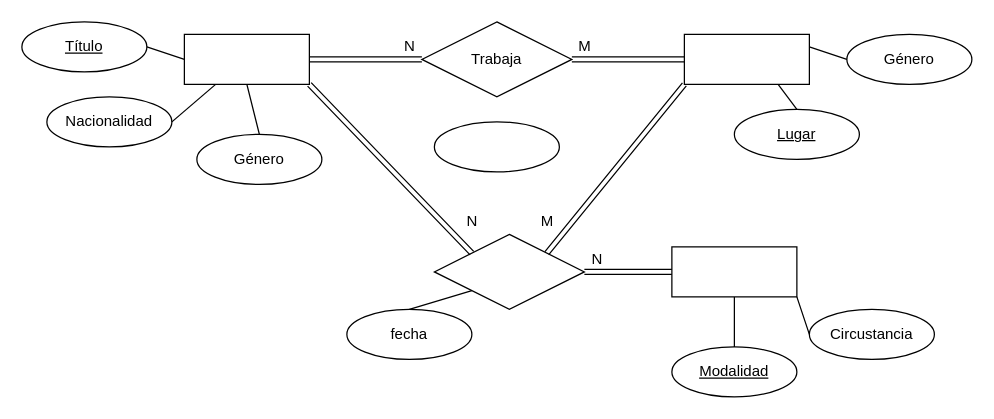
Some shapes in this 994 by 419 pixel diagram are drawn without their labels. The centre of each missing label's shape, as x and y in pixels:
"Cineasta" goes at [746,58].
"Obtiene" goes at [508,271].
"Oscar" goes at [734,271].
"Película" goes at [246,58].
"Tipo de trabajo" goes at [496,146].
